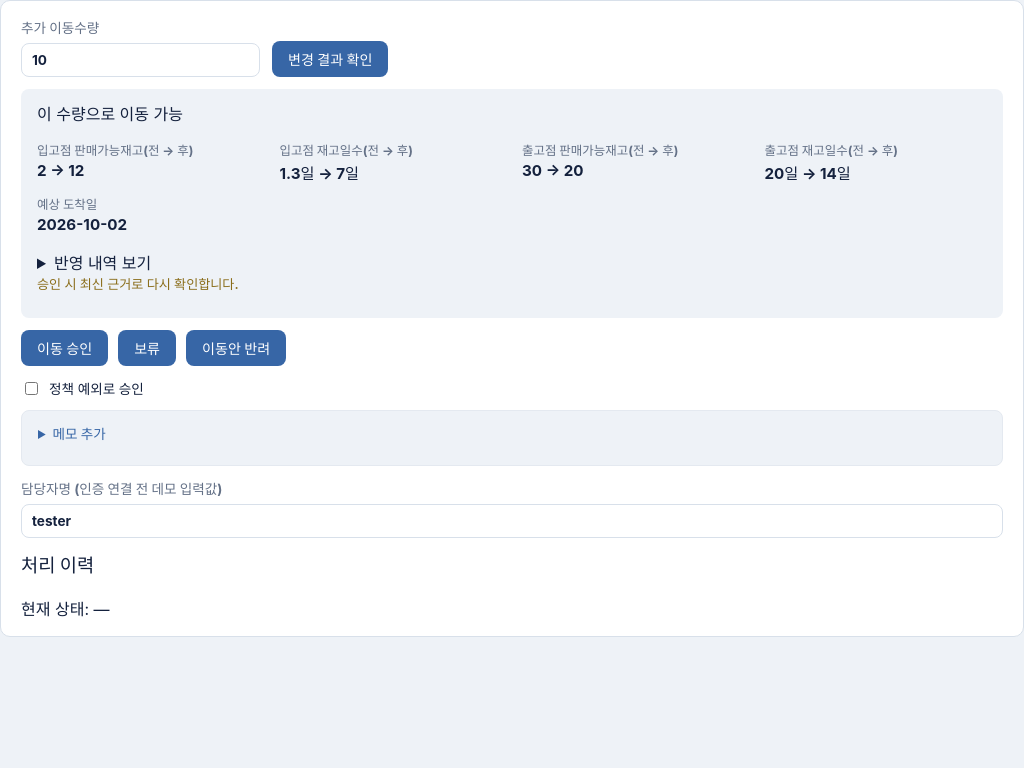
Test case: DecisionPanel decision submission › submits an APPROVED decision after confirm, mints an idempotency key, and refreshes history/list on success
The image size is (1024, 768).
Click the button "이동 승인".
click(65, 348)  # box [21, 330, 108, 366]
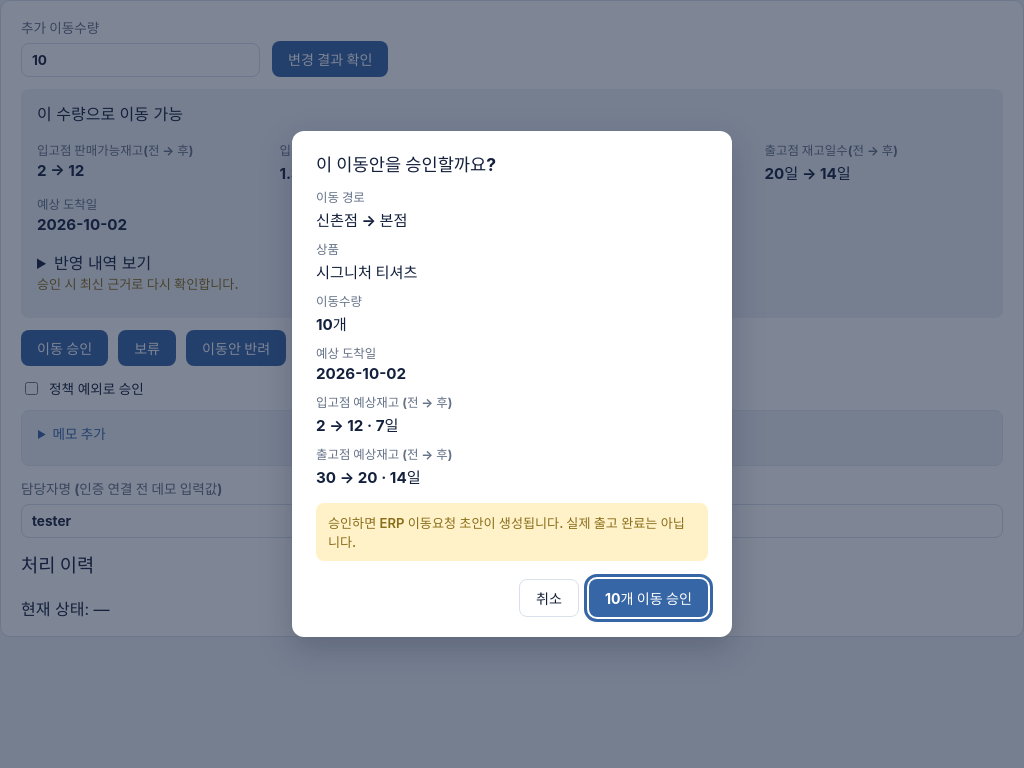
Click the button "10개 이동 승인".
click(648, 598)  # box [589, 579, 708, 617]
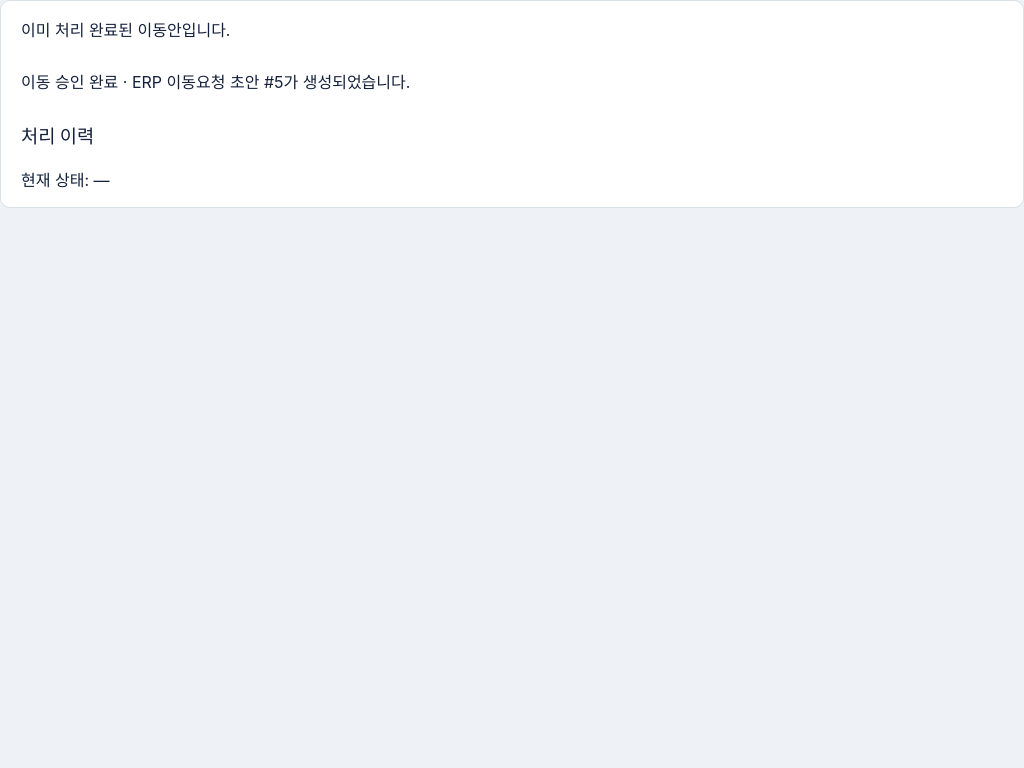
Expected: the text "이동 승인 완료 · ERP 이동요청 초안 #5가 생성되었습니다." is shown, [21, 72, 410, 92]
